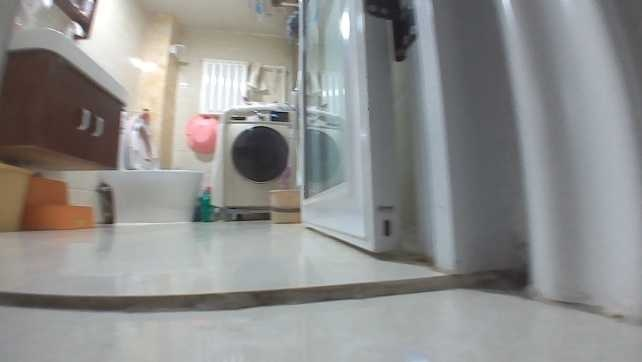door_anno: (290, 0, 405, 255)
door_sill: (0, 268, 456, 316)
toilet: (104, 122, 204, 226)
washing_machine: (211, 103, 299, 217)
washstand: (0, 25, 132, 172)
